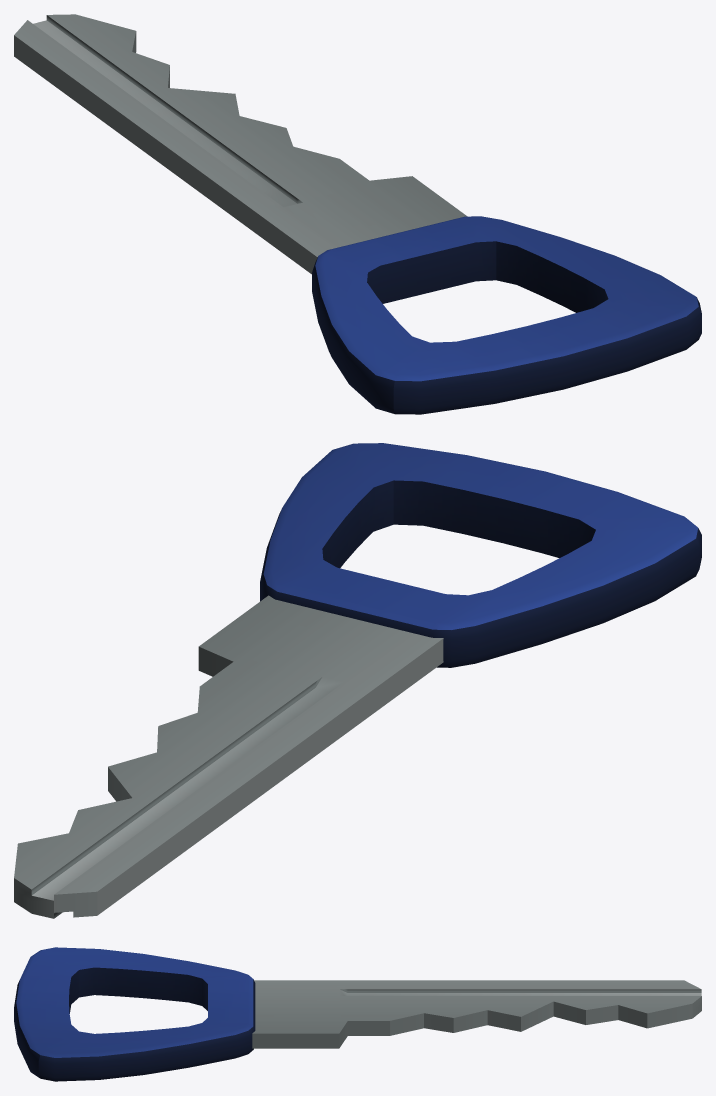
The model's file is chiave_blu.fbx.
The picture shows the model from 3 angles, top to bottom: view 1: azimuth 30°, elevation 25°; view 2: azimuth 150°, elevation 25°; view 3: azimuth 270°, elevation 25°; orthographic projection. The views are drawn at different scales.
Visible parts, largest first — view 1: chiave_blu; view 2: chiave_blu; view 3: chiave_blu.
Part boxes in pixels (<box>): chiave_blu: <box>14,14,701,414</box>; chiave_blu: <box>14,443,701,918</box>; chiave_blu: <box>14,947,701,1081</box>.
Size of the model in its own units: 2.53 by 0.289 by 6.54.
